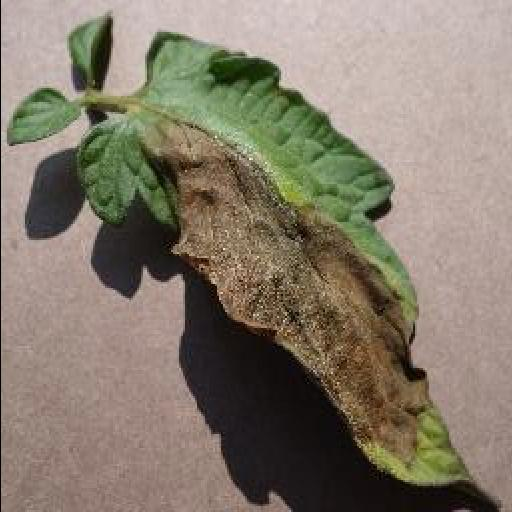disease_tomato: (70, 30, 476, 488)
